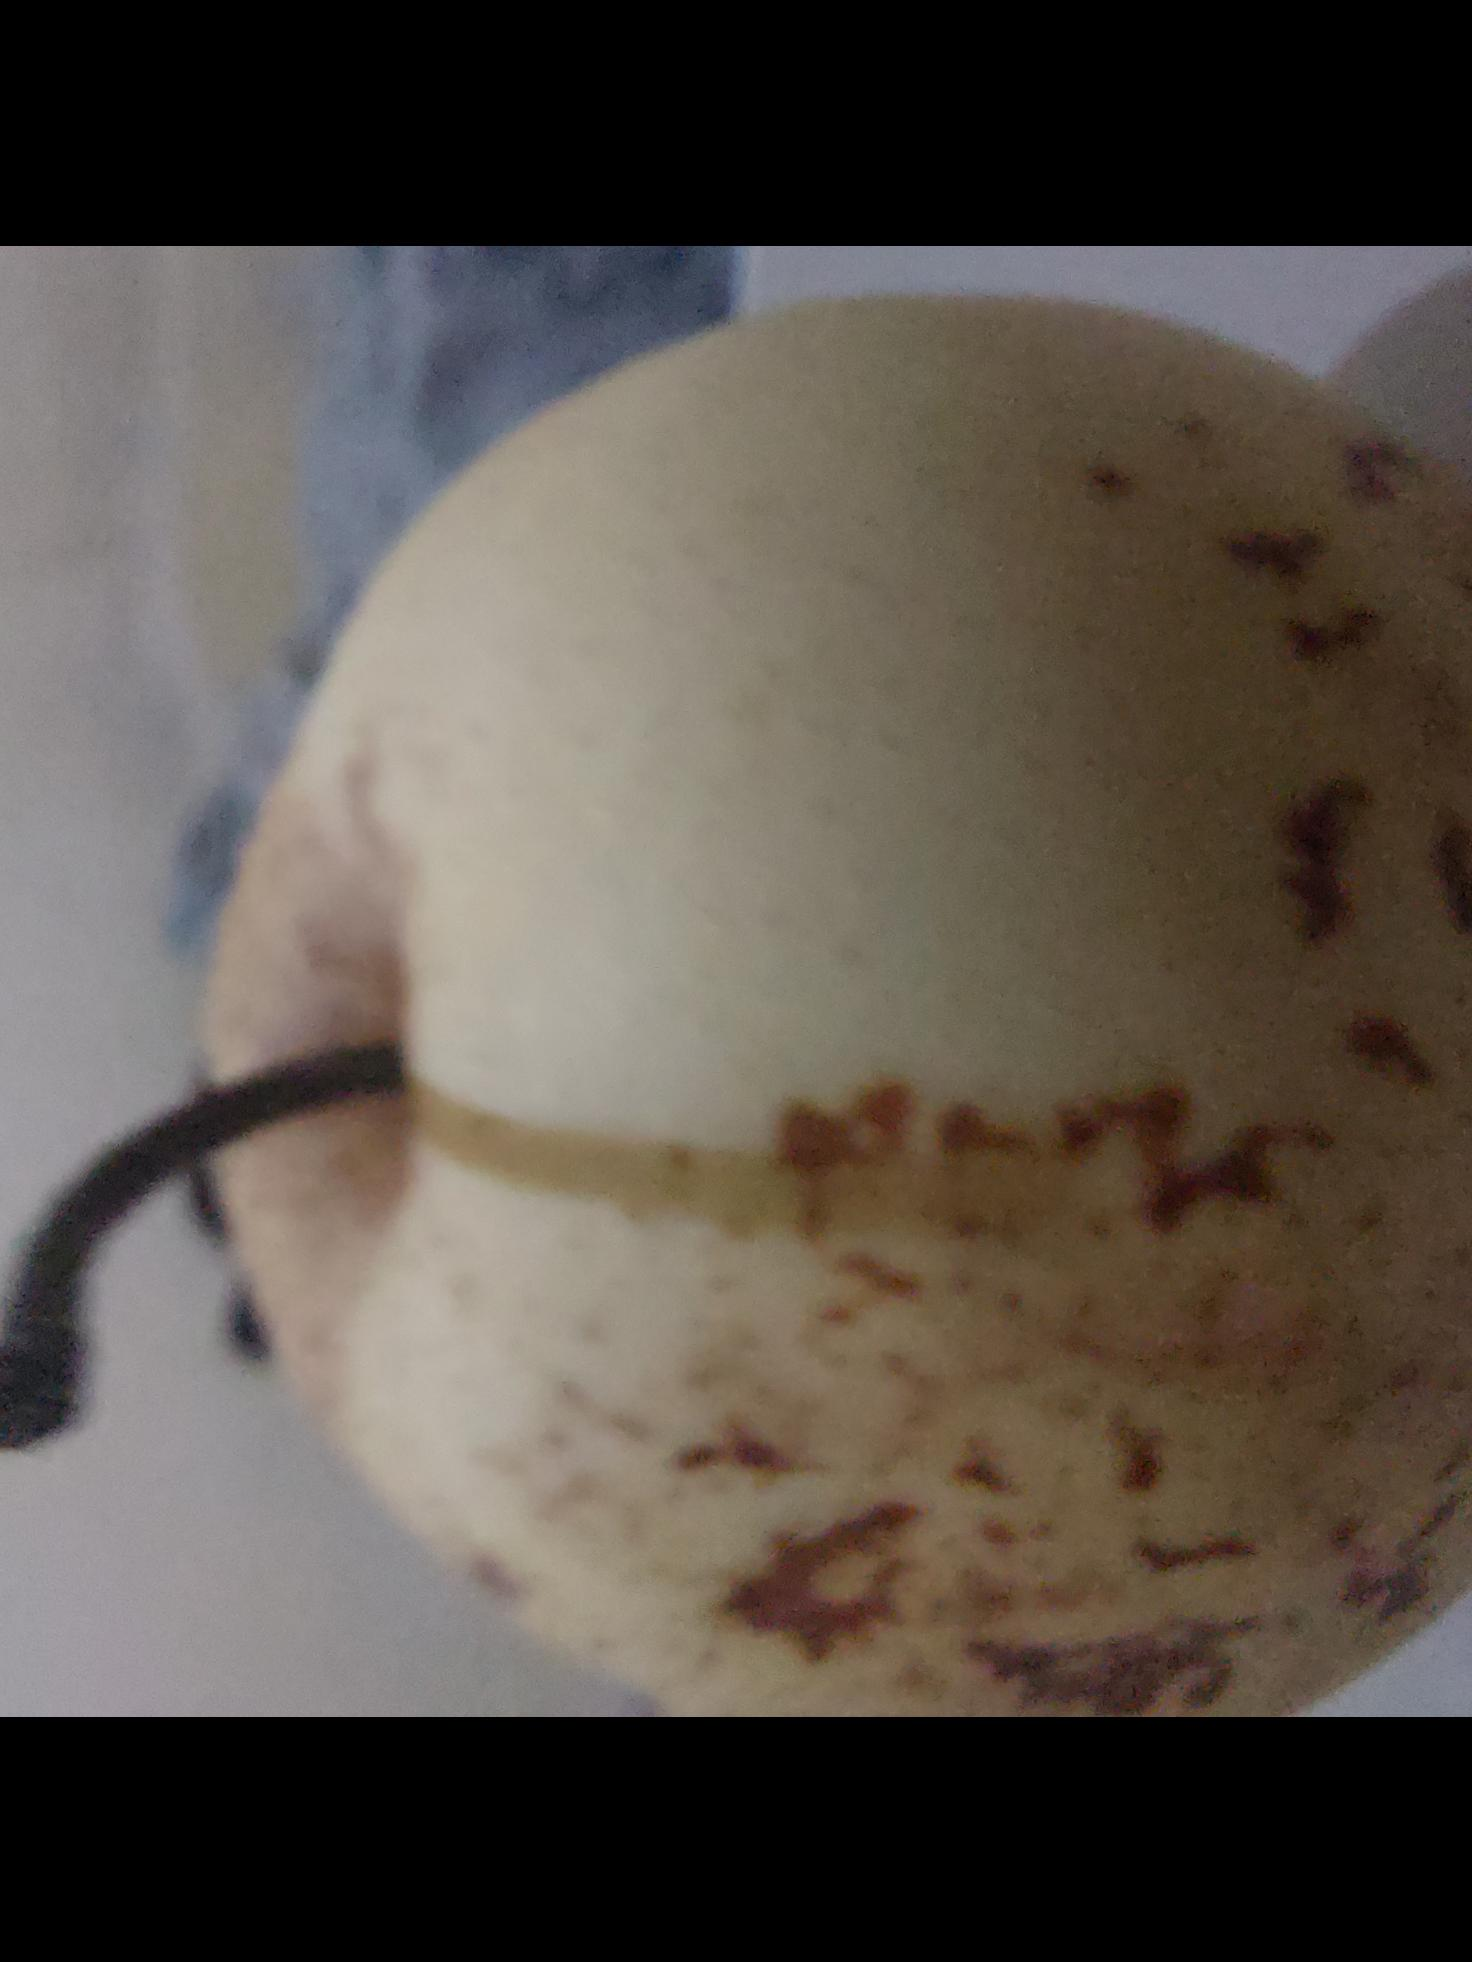Bad Pear: (172, 257, 1472, 1718)
